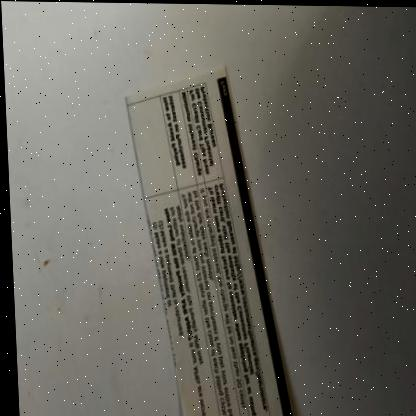Paper: (124, 69, 290, 416)
